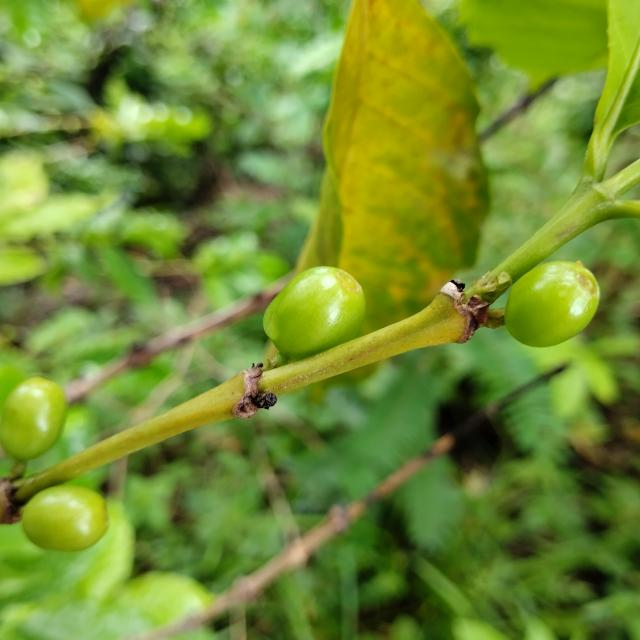green: (263, 266, 366, 361), (505, 261, 601, 347), (21, 486, 108, 552), (0, 377, 66, 462)
